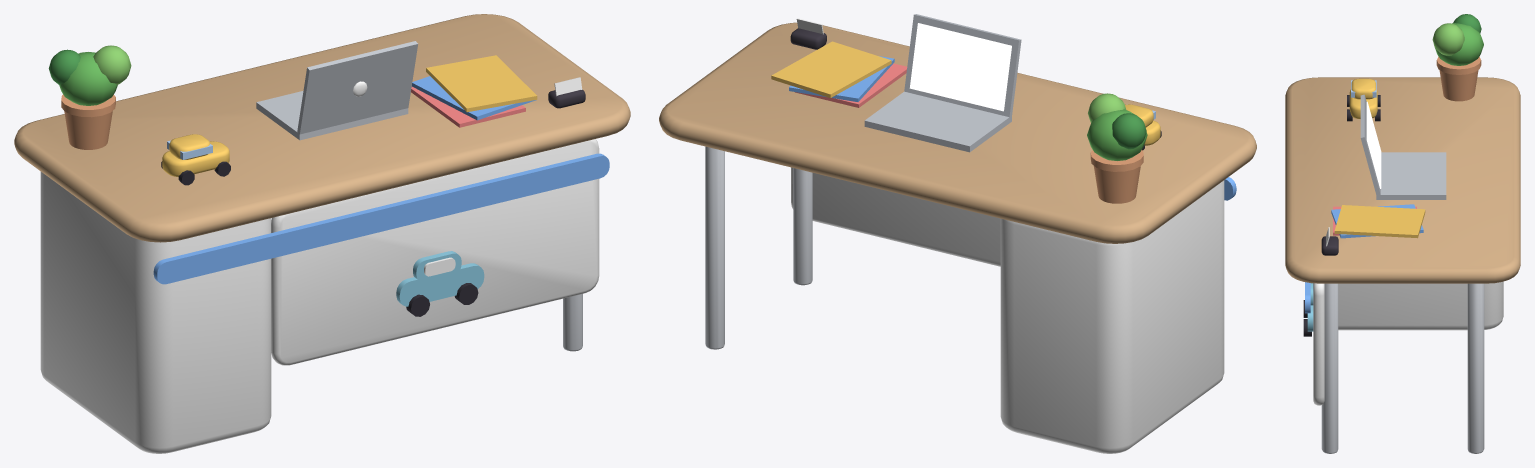
Rendered from sales_desk.glb.
3 views of the same model, side by side, from view 1: azimuth 30°, elevation 25°; view 2: azimuth 150°, elevation 25°; view 3: azimuth 270°, elevation 25° (orthographic). The views are drawn at different scales.
Parts seen in each view (by area): view 1: sales_desk; view 2: sales_desk; view 3: sales_desk.
Part boxes in pixels (x1,y1,x2,y2): sales_desk: [14, 14, 630, 453]; sales_desk: [659, 14, 1256, 453]; sales_desk: [1285, 14, 1520, 453].
Size of the model in its own units: 1.66 by 1.08 by 0.84.
